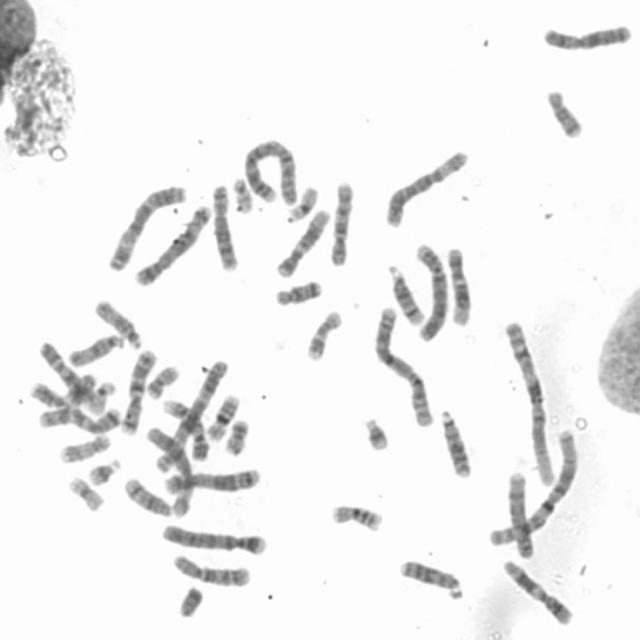A1: (485, 429, 580, 550), (499, 320, 559, 489)
A2: (372, 305, 435, 428), (243, 138, 299, 206)
A3: (152, 359, 230, 475), (105, 183, 190, 273)
B4: (411, 242, 450, 342), (160, 522, 269, 557)
B5: (134, 204, 214, 288), (167, 467, 260, 495)
C10: (172, 554, 252, 588), (329, 179, 355, 267)
C11: (502, 558, 576, 627), (29, 372, 98, 411)
C12: (274, 208, 331, 279), (446, 246, 474, 326)
C6: (383, 149, 471, 229), (145, 425, 196, 519)
C7: (120, 346, 159, 436), (37, 404, 126, 436)
C8: (507, 470, 537, 560), (211, 184, 240, 272)
C9: (38, 341, 94, 404), (163, 399, 211, 462)
D13: (395, 554, 466, 604), (436, 408, 474, 479)
D14: (384, 263, 427, 328), (124, 476, 178, 518)
D15: (94, 299, 143, 351), (68, 332, 127, 369)
E16: (204, 392, 240, 444), (332, 501, 386, 534)
E17: (305, 309, 342, 361), (59, 432, 112, 465)
E18: (543, 88, 588, 141), (272, 279, 324, 308)
F19: (67, 475, 106, 515), (289, 184, 320, 221)
F20: (147, 364, 180, 401), (223, 418, 250, 458)
G21: (361, 415, 393, 454), (85, 456, 121, 487)
G22: (86, 382, 118, 416), (233, 177, 256, 214)
X: (543, 22, 633, 56)
Y: (175, 585, 209, 620)
